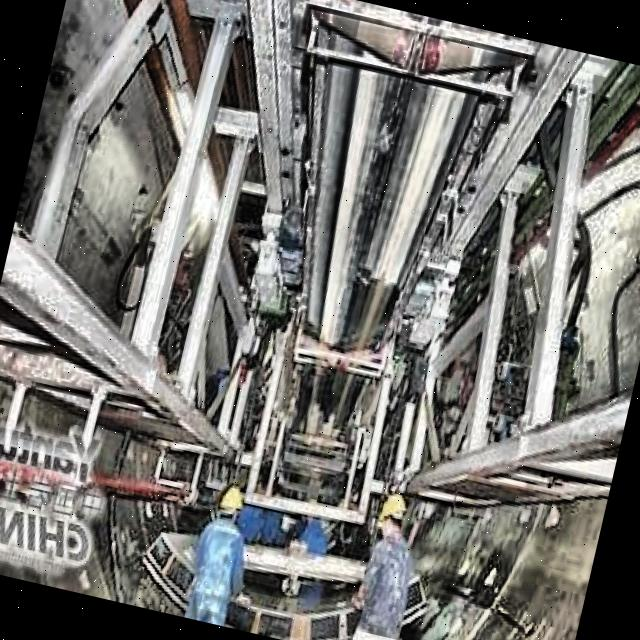helmet: (372, 486, 412, 543), (216, 483, 250, 528)
